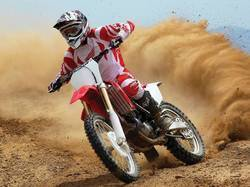helmet: (54, 8, 90, 46)
